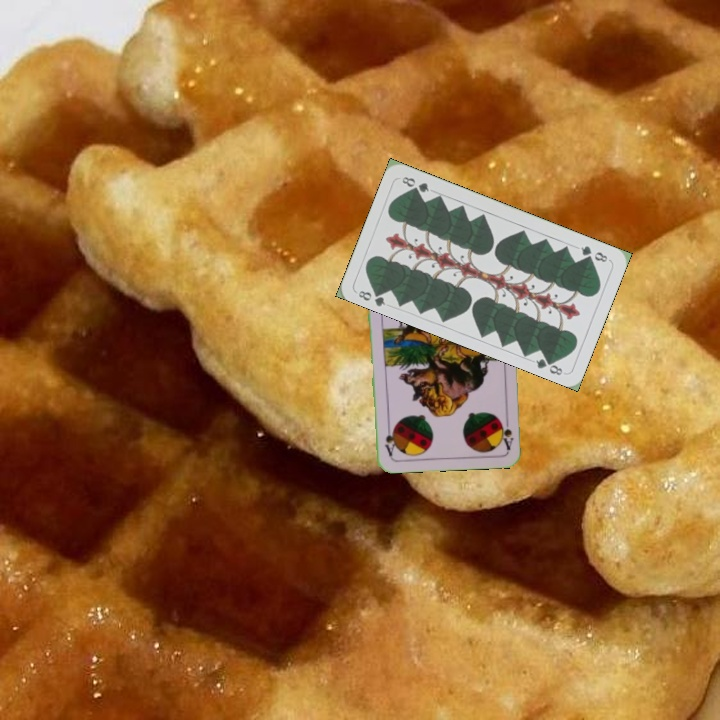G8: (354, 285, 388, 309), (576, 242, 610, 265)
SA: (496, 411, 516, 452)
